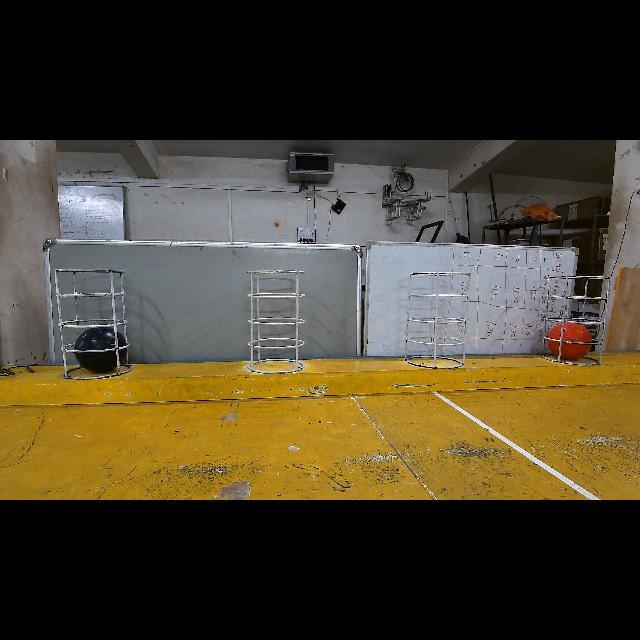P: (74, 328, 128, 374)
R: (548, 322, 592, 360)
S: (56, 260, 142, 372), (245, 266, 309, 379), (406, 268, 472, 376), (547, 270, 601, 374), (86, 295, 90, 305)
